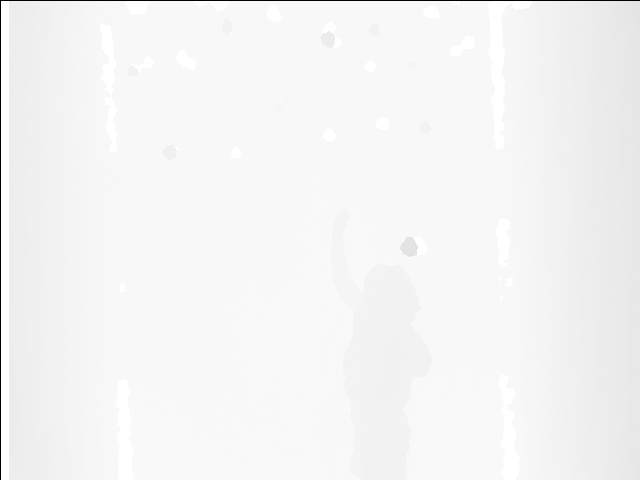hand: (328, 207, 350, 242)
